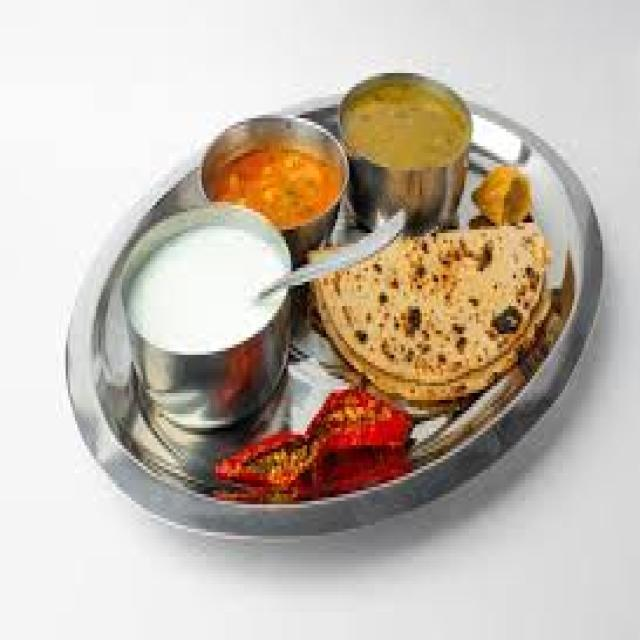curd: (112, 201, 288, 381)
dal: (338, 65, 476, 186)
roti: (308, 214, 542, 403)
sambar-rasam: (199, 103, 351, 240)
